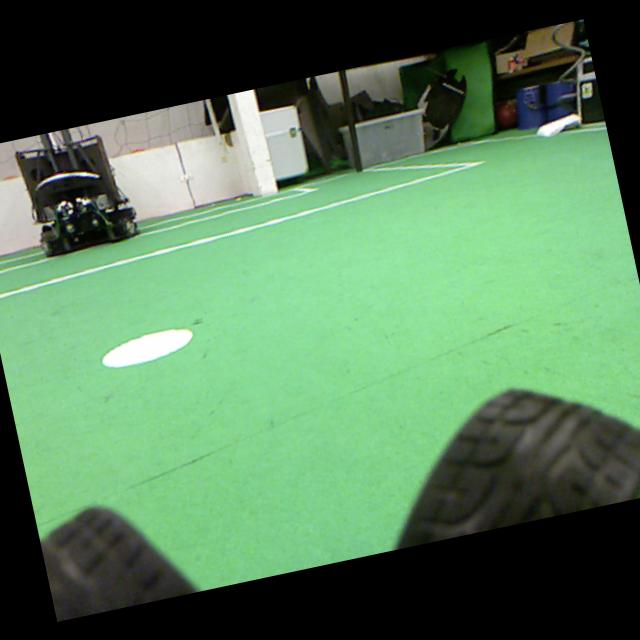goal: (235, 89, 279, 196)
robot: (14, 128, 140, 257)
